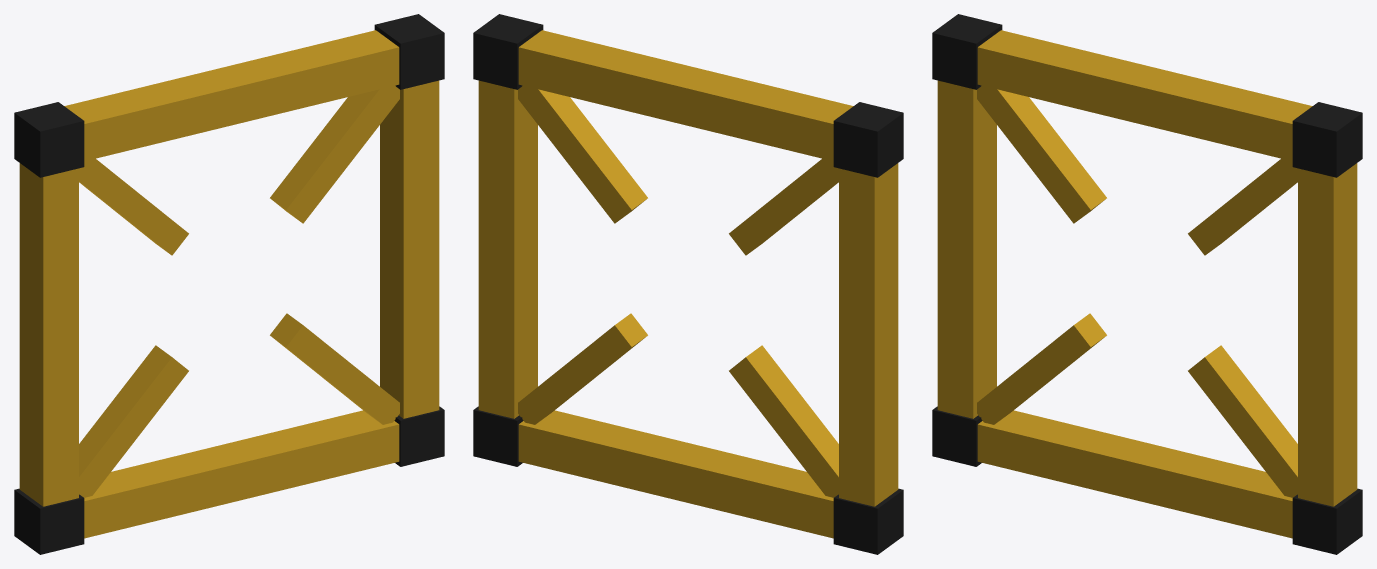
Rendered from trh_frame.obj.
The picture shows the model from 3 angles, left to right: view 1: azimuth 30°, elevation 25°; view 2: azimuth 150°, elevation 25°; view 3: azimuth 330°, elevation 25°; orthographic projection.
Parts seen in each view (by area): view 1: trh_frame; view 2: trh_frame; view 3: trh_frame.
Part boxes in pixels (<box>): trh_frame: <box>14,14,444,554</box>; trh_frame: <box>473,14,903,554</box>; trh_frame: <box>932,14,1362,554</box>.
Bounding box in the file's own units: 5.68 × 5.68 × 0.63.
